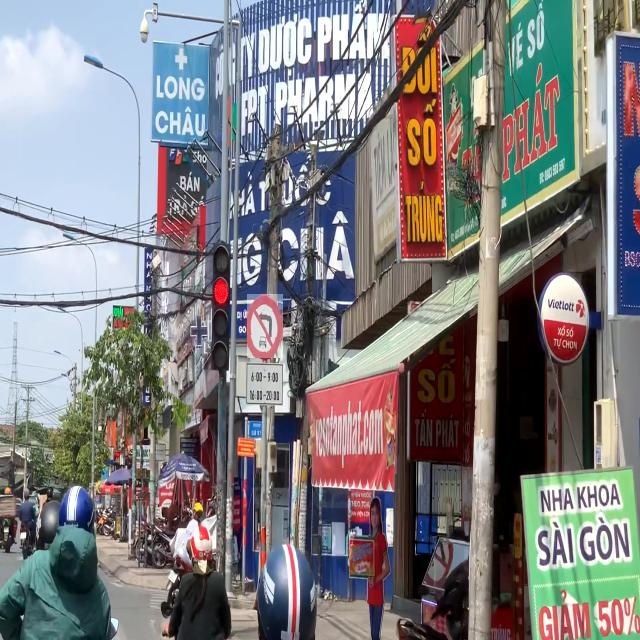bien_cam: (247, 294, 283, 358)
